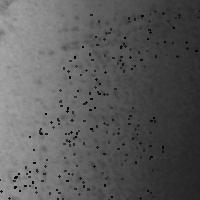pitted_surface: (45, 12, 162, 195), (63, 36, 123, 93), (39, 89, 98, 146), (103, 107, 163, 163), (24, 136, 83, 192), (90, 13, 149, 68), (149, 0, 200, 55), (55, 165, 111, 200), (104, 169, 153, 200), (0, 169, 49, 200)
